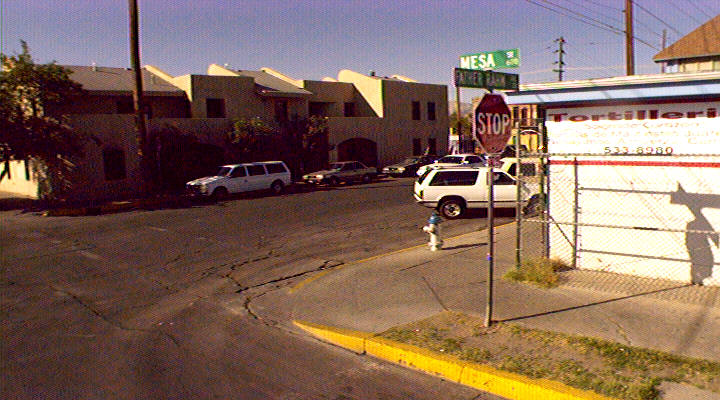Ramp: (223, 260, 441, 342)
